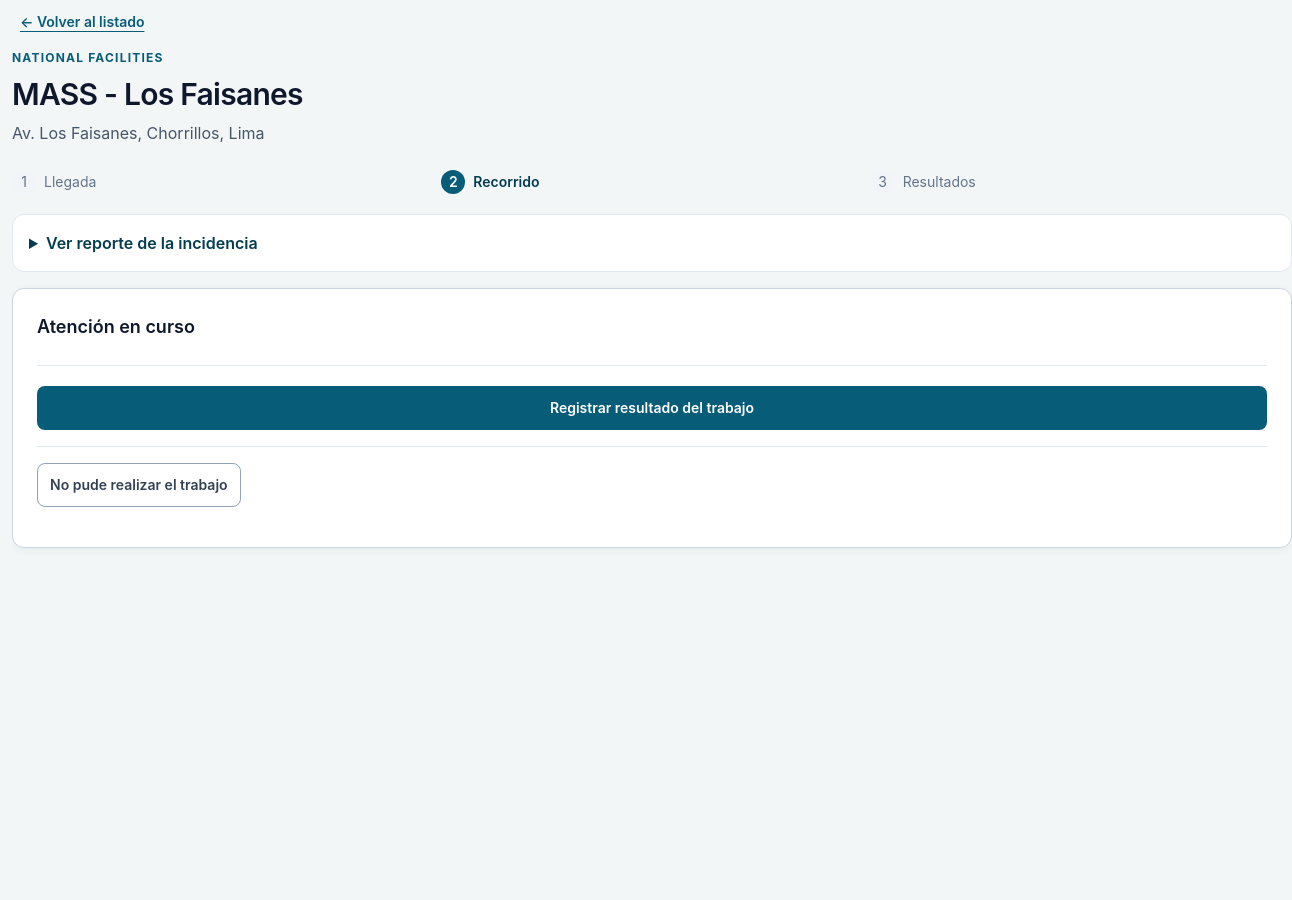
Test case: un clic confirma fin físico y apertura; resultados compactos con validación por campo
What coordinates should you click on to do the following:
click the button "Registrar resultado del trabajo"
I would click on:
 (652, 408)
Its box is [37, 386, 1267, 430].
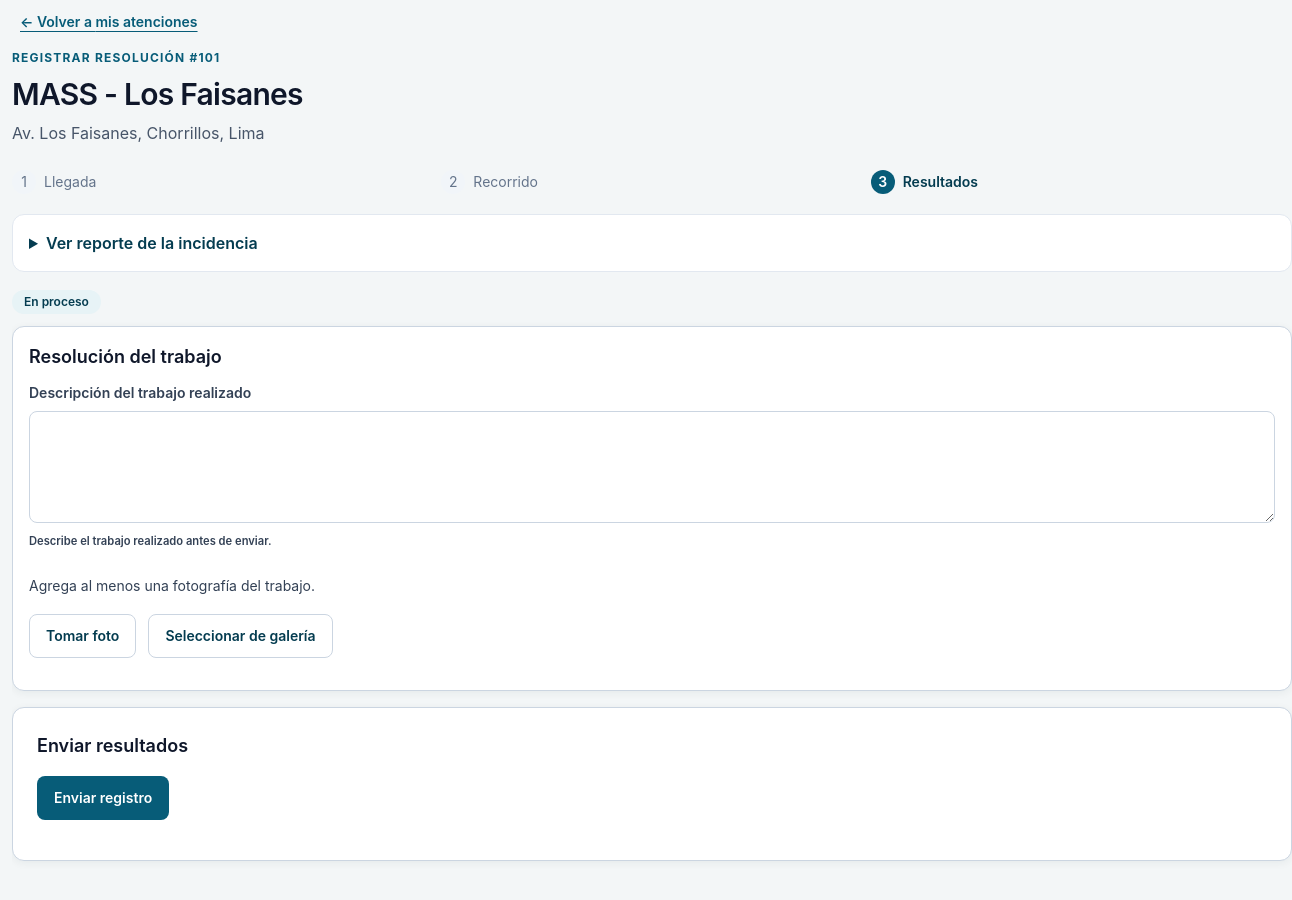
Check: the text box labelled "Descripción del trabajo realizado" is shown, box [29, 411, 1275, 523]
Check: the text "Agrega al menos una fotografía del trabajo." is shown, box [29, 577, 315, 594]
Check: the button "No pude realizar el trabajo" is gone
